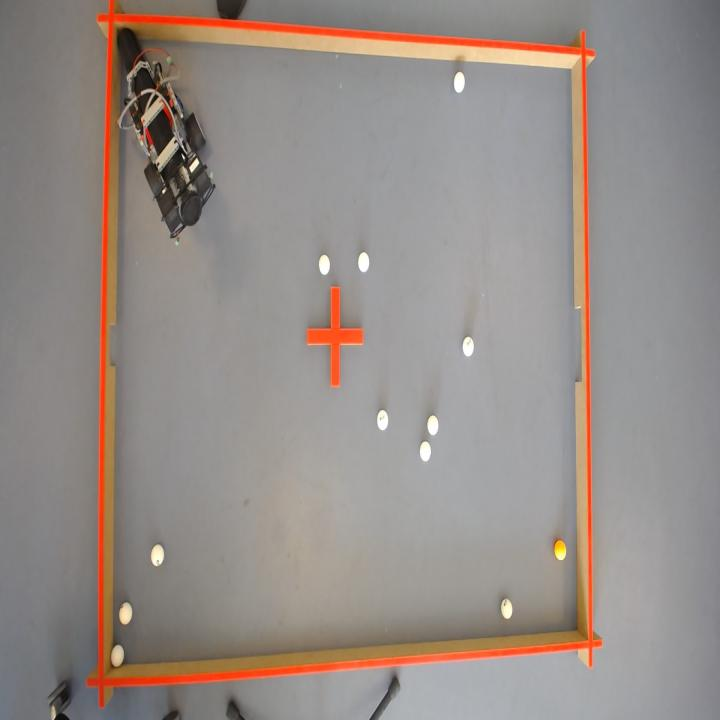orange: (555, 540, 567, 561)
robot: (117, 26, 215, 238)
white: (118, 602, 132, 626), (150, 544, 164, 566), (110, 645, 123, 668), (463, 335, 475, 356), (454, 69, 465, 91), (377, 409, 388, 430), (428, 414, 439, 435), (502, 599, 513, 620), (319, 254, 330, 274), (358, 251, 369, 271), (420, 441, 431, 461)
